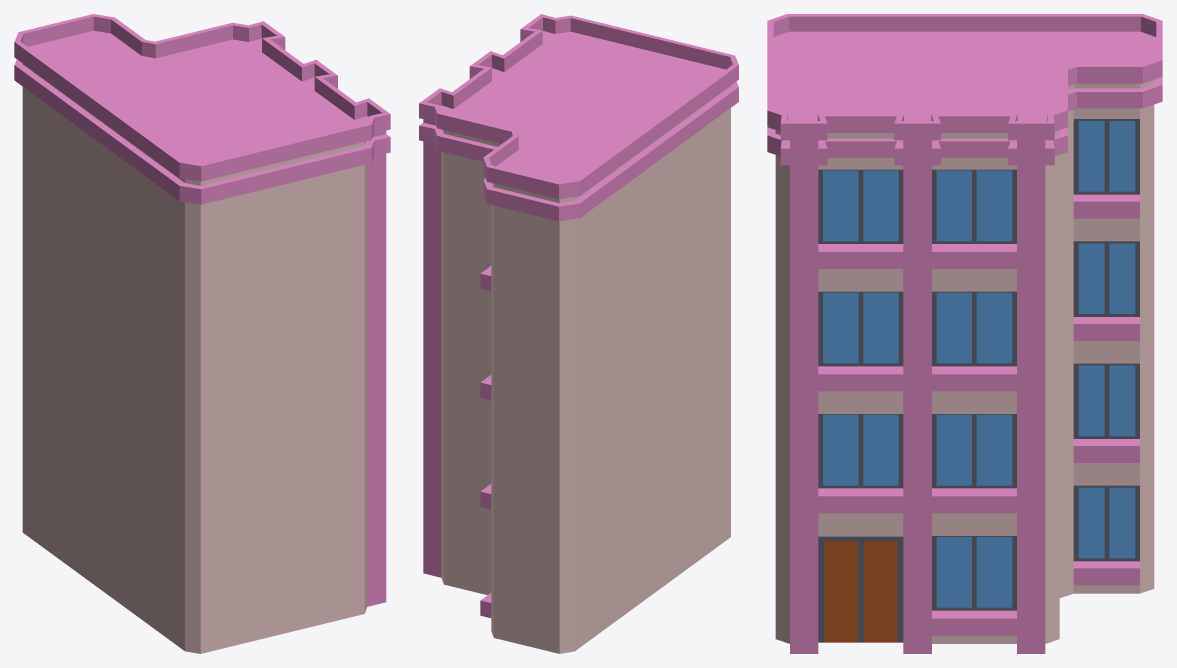
3 views of the same model, side by side, from view 1: azimuth 30°, elevation 25°; view 2: azimuth 150°, elevation 25°; view 3: azimuth 270°, elevation 25° (orthographic). The views are drawn at different scales.
Visible parts, largest first — view 1: Predio 9.003; view 2: Predio 9.003; view 3: Predio 9.003.
Part boxes in pixels (left/top/right/bottom): Predio 9.003: left=14, top=14, right=390, bottom=653; Predio 9.003: left=419, top=14, right=738, bottom=653; Predio 9.003: left=767, top=14, right=1162, bottom=653.
Size of the model in its own units: 4243 by 9570 by 6461.
